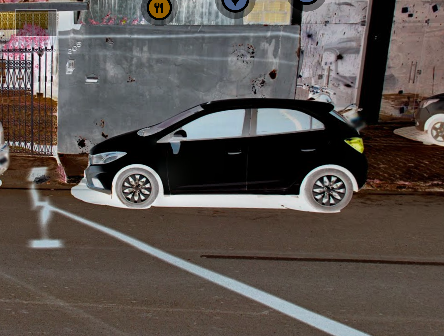car: (81, 93, 371, 217)
